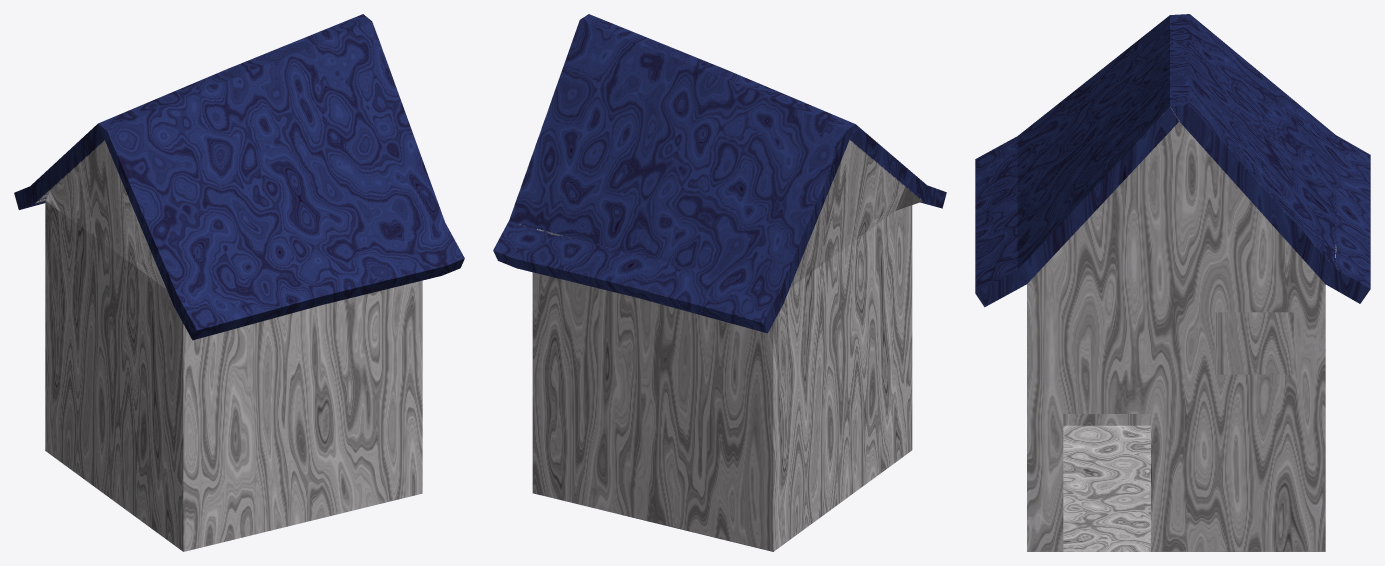
Rendered from GrasslandHouse.fbx.
3 views of the same model, side by side, from view 1: azimuth 30°, elevation 25°; view 2: azimuth 150°, elevation 25°; view 3: azimuth 270°, elevation 25° (orthographic). The views are drawn at different scales.
Parts seen in each view (by area): view 1: Cube; view 2: Cube; view 3: Cube.
Boxes of the visible parts, x1,y1,x2,y2 form: Cube: [14, 14, 464, 551]; Cube: [493, 14, 946, 551]; Cube: [975, 14, 1370, 551].
Size of the model in its own units: 224 by 336 by 265.
Materials: 2 (2 with a texture image).
